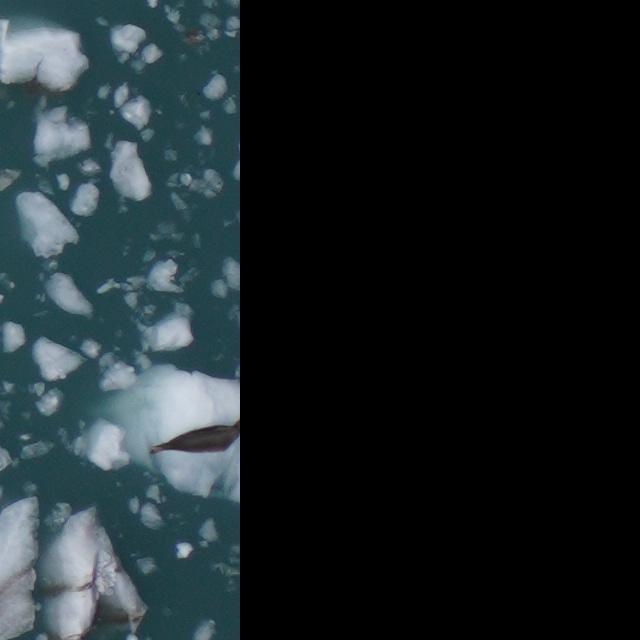seal: (150, 421, 240, 453)
